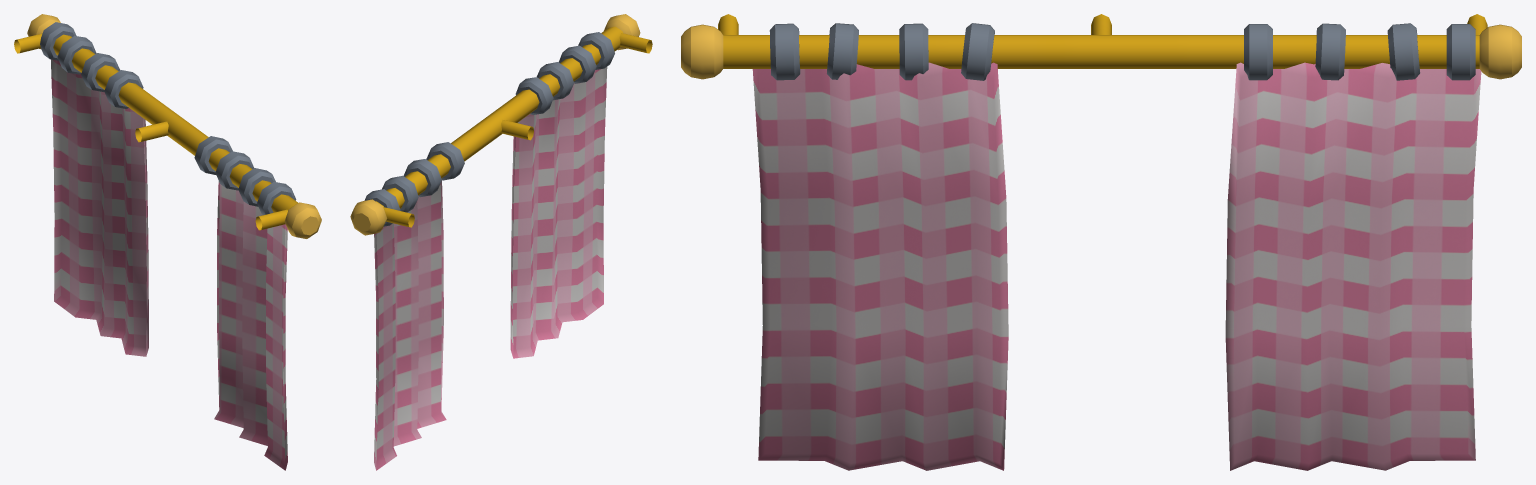
Rendered from Curtains_Long_2_A_A.glb.
3 views of the same model, side by side, from view 1: azimuth 30°, elevation 25°; view 2: azimuth 150°, elevation 25°; view 3: azimuth 270°, elevation 25° (orthographic). The views are drawn at different scales.
Visible parts, largest first — view 1: Curtains_Long_2_A_A; view 2: Curtains_Long_2_A_A; view 3: Curtains_Long_2_A_A.
Boxes of the visible parts, x1=… form: Curtains_Long_2_A_A: x1=14, y1=14, x2=321, y2=470; Curtains_Long_2_A_A: x1=350, y1=14, x2=652, y2=470; Curtains_Long_2_A_A: x1=681, y1=14, x2=1521, y2=470.
Bounding box in the file's own units: 0.2288 × 1.16 × 2.02.
2 materials, 2 textured.
